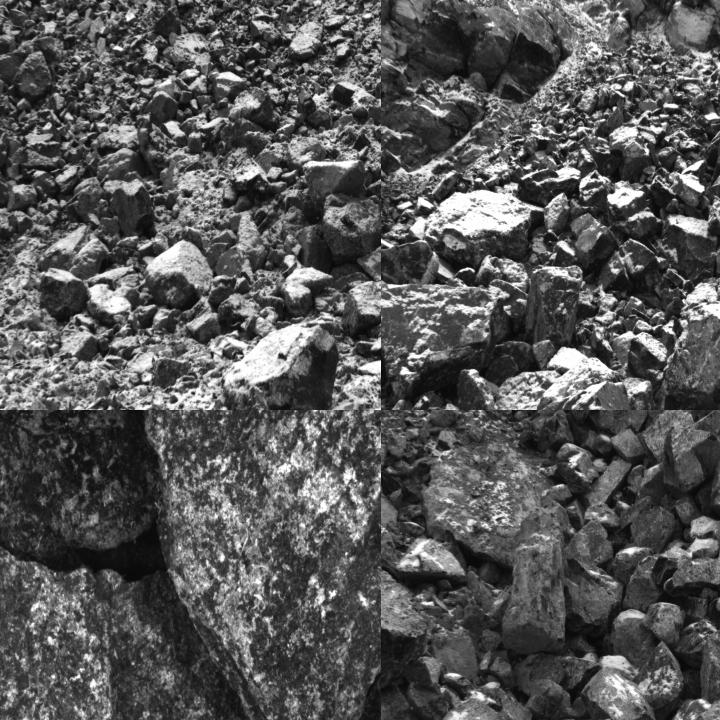stone: (132, 410, 380, 719), (0, 539, 256, 719), (0, 410, 158, 562), (246, 607, 380, 719), (381, 284, 511, 399), (501, 504, 574, 656), (220, 321, 340, 409), (381, 531, 432, 704), (423, 191, 533, 267), (656, 296, 719, 409), (662, 410, 719, 495), (142, 238, 213, 306), (523, 266, 580, 344), (565, 559, 622, 635), (623, 549, 690, 613), (658, 212, 717, 282), (301, 160, 369, 220), (582, 667, 660, 719), (323, 192, 380, 262), (542, 360, 619, 410), (391, 536, 467, 586), (636, 642, 684, 719), (41, 225, 109, 279), (513, 654, 600, 695), (599, 238, 659, 292), (603, 184, 659, 239), (381, 241, 439, 294), (612, 609, 658, 669), (106, 178, 153, 236), (537, 381, 633, 409), (280, 269, 338, 315), (566, 519, 619, 569), (496, 369, 561, 409), (582, 458, 632, 510), (514, 165, 580, 204), (609, 125, 650, 184), (575, 219, 618, 274), (228, 85, 280, 130), (631, 506, 682, 550), (525, 677, 577, 719), (666, 555, 719, 595), (40, 268, 86, 314), (556, 444, 600, 492), (14, 49, 53, 102), (343, 281, 380, 335), (429, 701, 533, 719), (487, 343, 533, 383), (87, 284, 133, 321), (645, 604, 685, 646), (457, 370, 500, 409), (626, 332, 668, 371), (96, 148, 143, 181), (700, 623, 719, 704), (536, 410, 572, 452), (578, 170, 614, 209), (212, 69, 248, 106), (290, 18, 323, 58), (595, 410, 650, 434), (669, 174, 707, 207), (548, 343, 590, 372), (0, 100, 11, 210), (621, 376, 655, 409), (584, 503, 621, 532), (362, 226, 380, 283), (542, 194, 569, 232), (590, 325, 612, 360), (705, 199, 719, 236)
